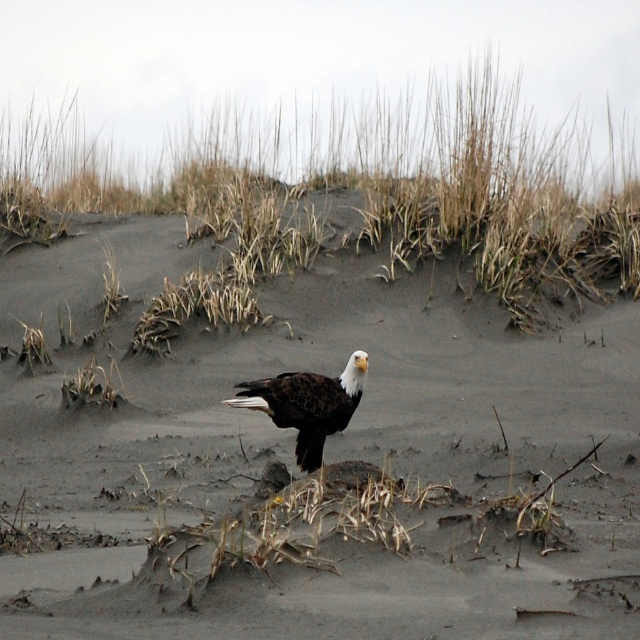Eagle: (224, 346, 374, 488)
